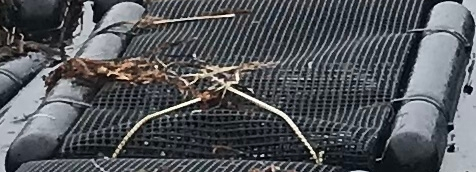bag: (12, 2, 472, 158)
